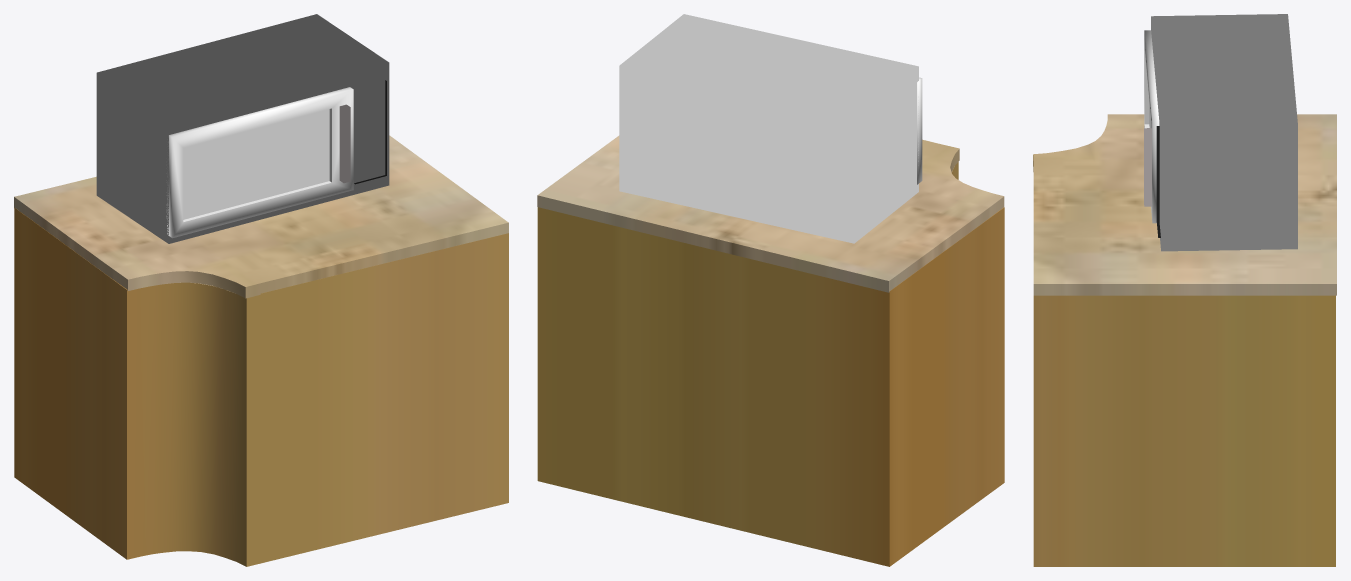
3 renders of one model, left to right at view 1: azimuth 30°, elevation 25°; view 2: azimuth 150°, elevation 25°; view 3: azimuth 270°, elevation 25°, orthographic. The views are drawn at different scales.
Visible parts, largest first — view 1: cornerCabinet.obj_1, microwave.obj_1; view 2: cornerCabinet.obj_1, microwave.obj_1; view 3: cornerCabinet.obj_1, microwave.obj_1.
Boxes of the visible parts, x1=… form: cornerCabinet.obj_1: x1=14, y1=135, x2=508, y2=566; microwave.obj_1: x1=96, y1=14, x2=389, y2=243; cornerCabinet.obj_1: x1=537, y1=135, x2=1004, y2=566; microwave.obj_1: x1=619, y1=14, x2=922, y2=243; cornerCabinet.obj_1: x1=1033, y1=114, x2=1336, y2=566; microwave.obj_1: x1=1144, y1=14, x2=1297, y2=251.
Bounding box in the file's own units: 1.31 × 1.48 × 0.9911.
Materials: 6 (2 with a texture image).
